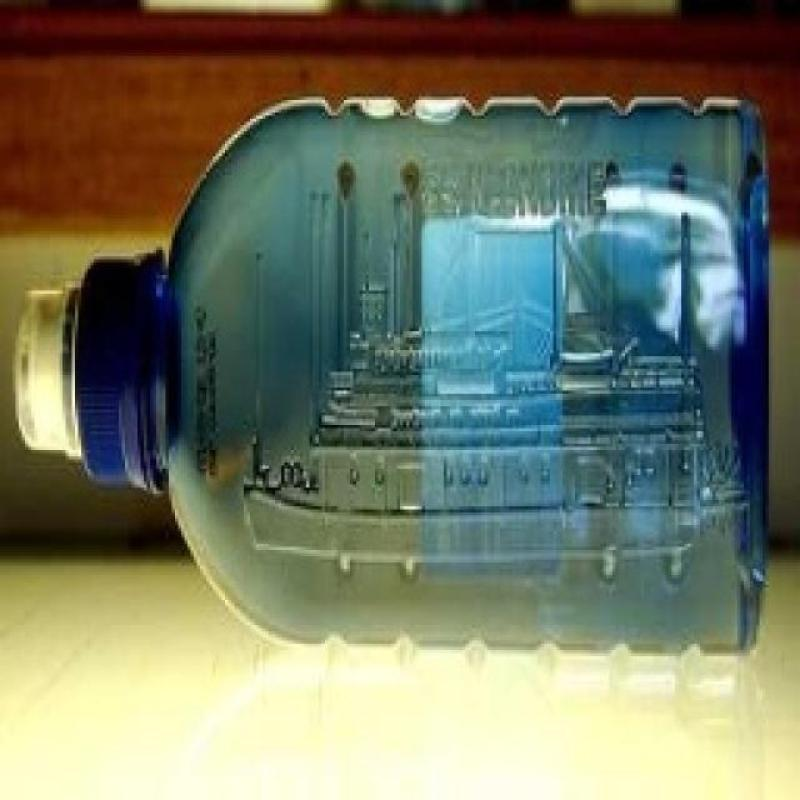botella: (17, 91, 771, 660)
